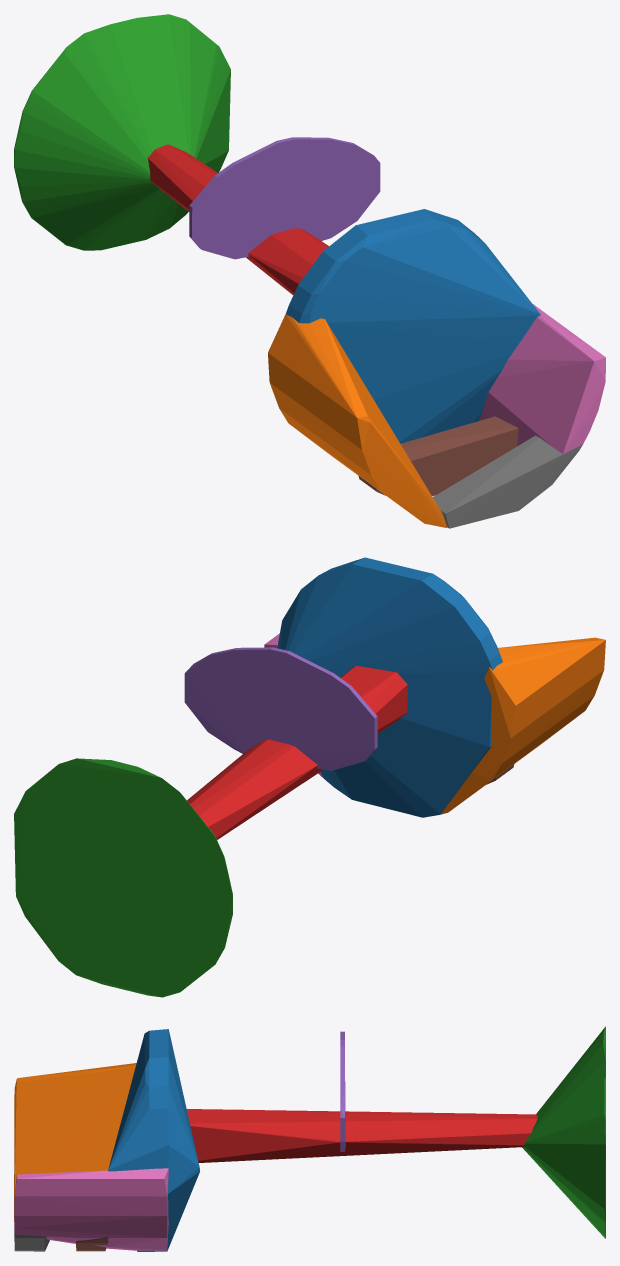
File: Kitchen_Chair_04_cvx.obj
3 views of the same model, one above another, from view 1: azimuth 30°, elevation 25°; view 2: azimuth 150°, elevation 25°; view 3: azimuth 270°, elevation 25° (orthographic). The views are drawn at different scales.
Visible parts, largest first — view 1: scenes/apartment_0000_coacd/output/Unknown/Kitchen_Chair_04/cvx/; view 2: scenes/apartment_0000_coacd/output/Unknown/Kitchen_Chair_04/cvx/; view 3: scenes/apartment_0000_coacd/output/Unknown/Kitchen_Chair_04/cvx/.
Boxes of the visible parts, left/top/right/bottom form: scenes/apartment_0000_coacd/output/Unknown/Kitchen_Chair_04/cvx/: left=14, top=14, right=605, bottom=528; scenes/apartment_0000_coacd/output/Unknown/Kitchen_Chair_04/cvx/: left=14, top=557, right=605, bottom=997; scenes/apartment_0000_coacd/output/Unknown/Kitchen_Chair_04/cvx/: left=14, top=1026, right=605, bottom=1251.
Size of the model in its own units: 0.4997 by 0.4615 by 1.24.
